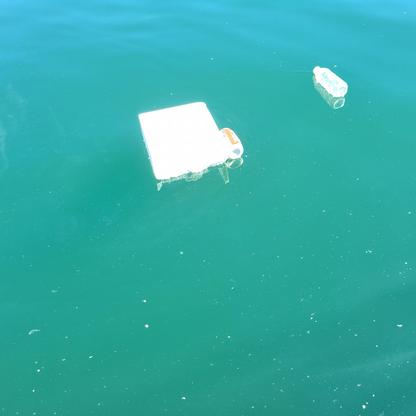can: (220, 125, 244, 159)
foam: (138, 102, 225, 180)
plastic bottle: (315, 67, 348, 98)
